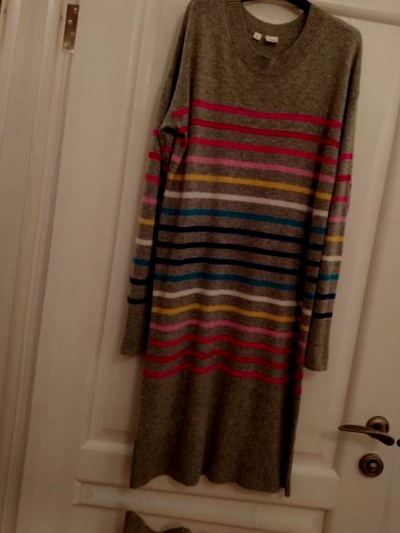Dress: (75, 0, 400, 510), (7, 509, 334, 533)
